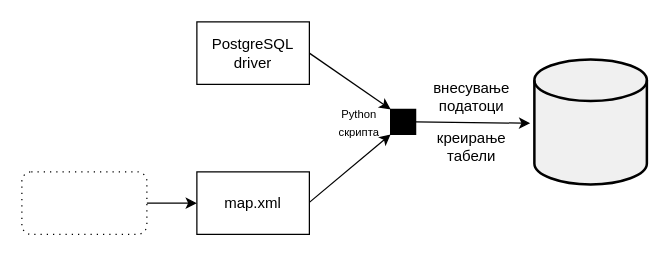
Image size: 670x256. Some labels were removed from this diagram. The centre of each missing label's shape, as x and y in pixels:
Open Street Map: (x=84, y=202)
PostgreSQL база на податоци: (x=590, y=121)
